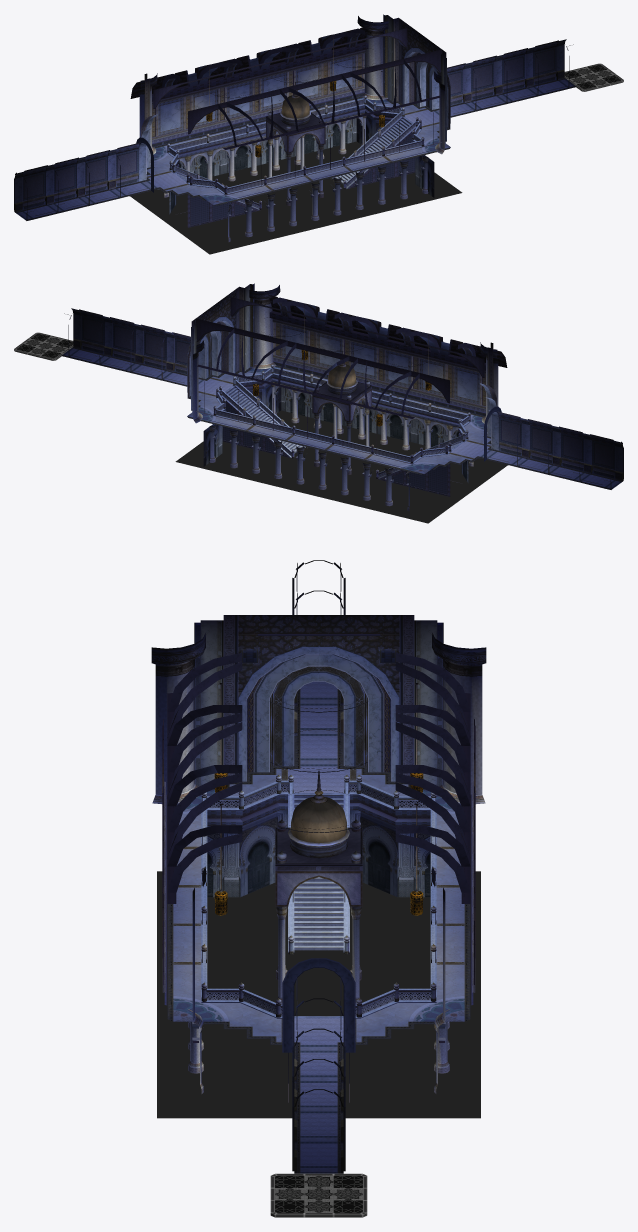
File: NPRotatingRoomNormal.gltf
The picture shows the model from 3 angles, top to bottom: view 1: azimuth 30°, elevation 25°; view 2: azimuth 150°, elevation 25°; view 3: azimuth 270°, elevation 25°; orthographic projection. The views are drawn at different scales.
Parts seen in each view (by area): view 1: stg071_g25_Mesh_0000, stg071_o25_Mesh_0058, stg071_o25_Mesh_0038, stg071_o25_Mesh_0069, stg071_o25_Mesh_0000, stg071_o25_Mesh_0027, stg071_o25_Mesh_0016, stg071_o25_Mesh_0037, stg071_o25_Mesh_0076, stg071_o25_Mesh_0019, stg071_o25_Mesh_0026, stg071_o25_Mesh_0072 (+38 smaller); view 2: stg071_g25_Mesh_0000, stg071_o25_Mesh_0058, stg071_o25_Mesh_0038, stg071_o25_Mesh_0069, stg071_o25_Mesh_0000, stg071_o25_Mesh_0027, stg071_o25_Mesh_0016, stg071_o25_Mesh_0037, stg071_o25_Mesh_0076, stg071_o25_Mesh_0019, stg071_o25_Mesh_0026, stg071_o25_Mesh_0072 (+38 smaller); view 3: stg071_g25_Mesh_0000, stg071_o25_Mesh_0038, stg071_o25_Mesh_0026, stg071_o25_Mesh_0069, stg071_o25_Mesh_0058, stg071_o25_Mesh_0076, stg071_o25_Mesh_0039, stg071_o25_Mesh_0032, stg071_o25_Mesh_0017, stg071_o25_Mesh_0072, stg071_o25_Mesh_0078, stg071_o25_Mesh_0034 (+22 smaller).
Part boxes in pixels (bbox=[...]): stg071_g25_Mesh_0000: bbox=[130, 141, 462, 254]; stg071_o25_Mesh_0058: bbox=[157, 115, 434, 214]; stg071_o25_Mesh_0038: bbox=[162, 28, 421, 146]; stg071_o25_Mesh_0069: bbox=[18, 79, 572, 219]; stg071_o25_Mesh_0000: bbox=[24, 49, 553, 198]; stg071_o25_Mesh_0027: bbox=[14, 39, 575, 220]; stg071_o25_Mesh_0016: bbox=[179, 114, 427, 236]; stg071_o25_Mesh_0037: bbox=[160, 59, 352, 131]; stg071_o25_Mesh_0076: bbox=[24, 81, 566, 217]; stg071_o25_Mesh_0019: bbox=[153, 28, 441, 133]; stg071_o25_Mesh_0026: bbox=[136, 48, 450, 192]; stg071_o25_Mesh_0072: bbox=[15, 78, 576, 220]; stg071_g25_Mesh_0000: bbox=[175, 410, 507, 523]; stg071_o25_Mesh_0058: bbox=[203, 384, 480, 483]; stg071_o25_Mesh_0038: bbox=[216, 297, 475, 415]; stg071_o25_Mesh_0069: bbox=[65, 348, 619, 488]; stg071_o25_Mesh_0000: bbox=[84, 318, 613, 467]; stg071_o25_Mesh_0027: bbox=[62, 308, 623, 489]; stg071_o25_Mesh_0016: bbox=[210, 383, 458, 505]; stg071_o25_Mesh_0037: bbox=[285, 328, 477, 400]; stg071_o25_Mesh_0076: bbox=[71, 350, 613, 486]; stg071_o25_Mesh_0019: bbox=[196, 297, 484, 402]; stg071_o25_Mesh_0026: bbox=[187, 317, 501, 461]; stg071_o25_Mesh_0072: bbox=[61, 347, 622, 489]; stg071_g25_Mesh_0000: bbox=[157, 871, 480, 1118]; stg071_o25_Mesh_0038: bbox=[167, 653, 470, 892]; stg071_o25_Mesh_0026: bbox=[238, 646, 399, 1052]; stg071_o25_Mesh_0069: bbox=[173, 699, 464, 1171]; stg071_o25_Mesh_0058: bbox=[207, 810, 430, 897]; stg071_o25_Mesh_0076: bbox=[288, 681, 349, 1165]; stg071_o25_Mesh_0039: bbox=[194, 615, 443, 786]; stg071_o25_Mesh_0032: bbox=[238, 615, 399, 697]; stg071_o25_Mesh_0017: bbox=[155, 666, 482, 1020]; stg071_o25_Mesh_0072: bbox=[167, 689, 470, 1173]; stg071_o25_Mesh_0078: bbox=[294, 793, 343, 1018]; stg071_o25_Mesh_0034: bbox=[202, 780, 435, 1013].
Bounding box in the file's own units: 221 × 45.61 × 54.05.
25 materials, 23 textured.
